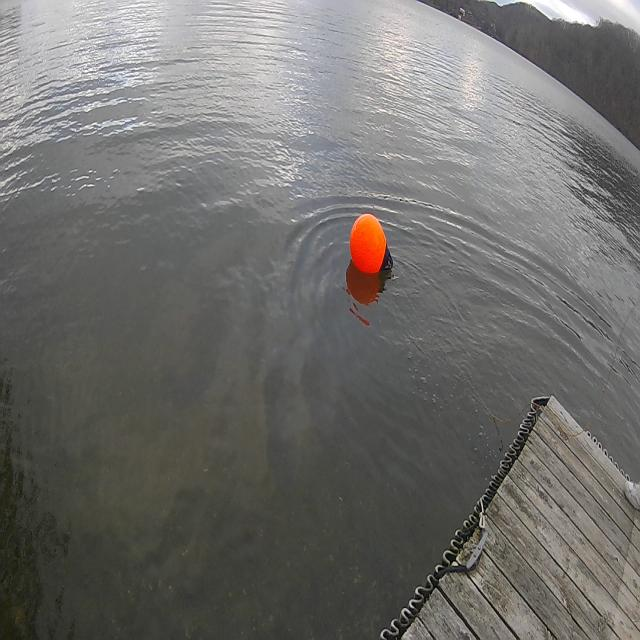Buoy: (346, 205, 400, 286)
